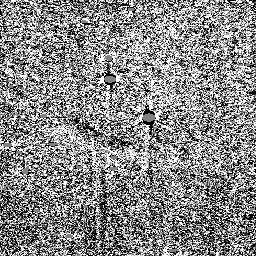LE: (53, 111, 123, 160)
